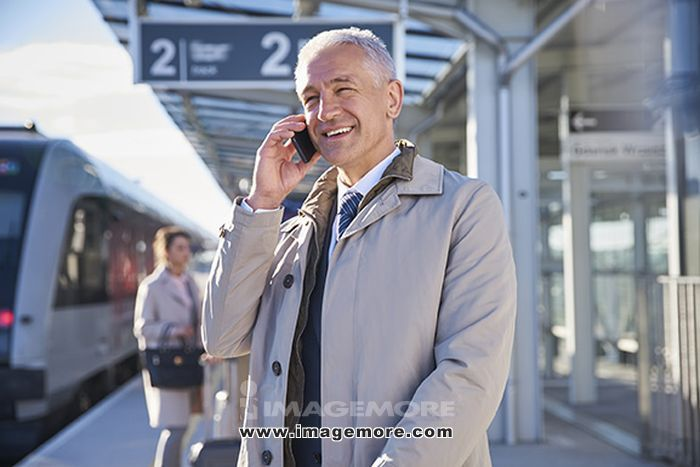phone: (281, 110, 321, 167)
talk: (252, 67, 370, 185)
